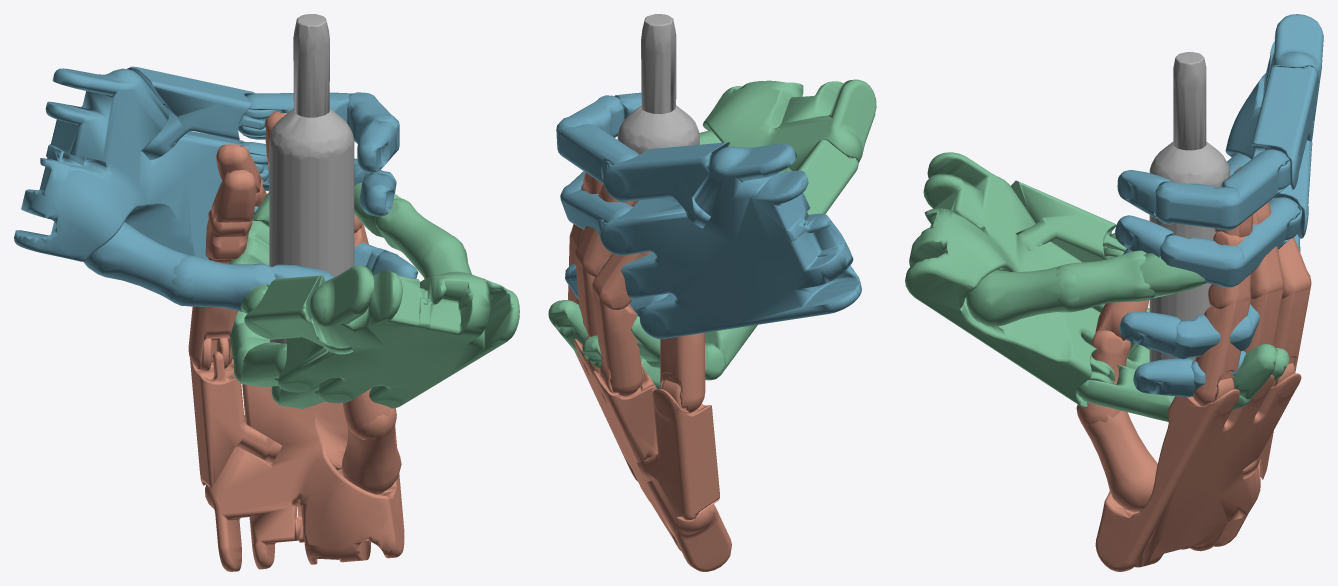
The picture shows the model from 3 angles, left to right: view 1: azimuth 30°, elevation 25°; view 2: azimuth 150°, elevation 25°; view 3: azimuth 270°, elevation 25°; orthographic projection. The views are drawn at different scales.
Size of the model in its own units: 0.1689 by 0.259 by 0.1901.
